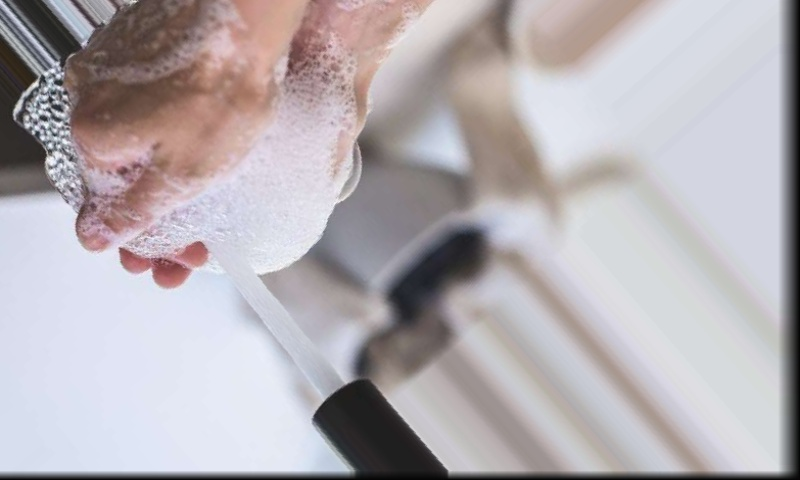washing hand: (0, 0, 490, 479)
